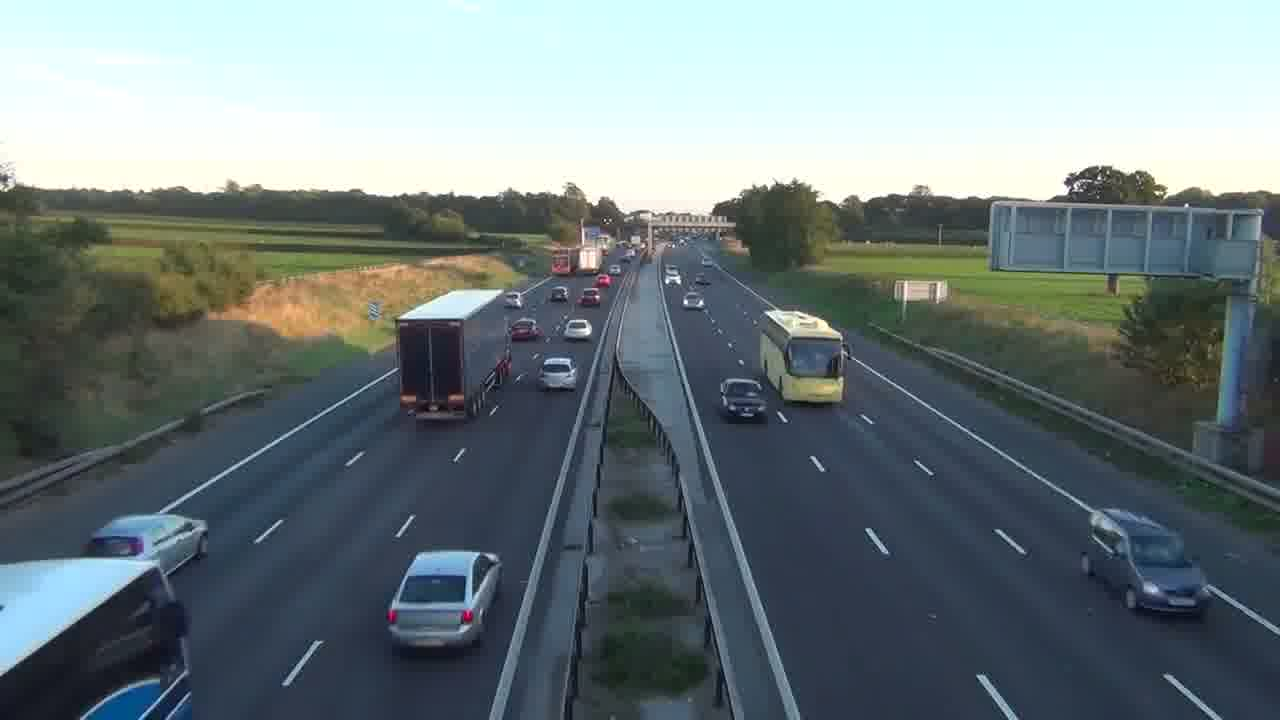bus: (758, 308, 849, 404)
car: (385, 548, 502, 656), (81, 511, 209, 577), (719, 377, 768, 423), (540, 354, 578, 391), (510, 317, 546, 342), (562, 318, 593, 341), (682, 292, 704, 310)
truck: (0, 556, 187, 717), (396, 288, 512, 423), (1081, 506, 1209, 615)
